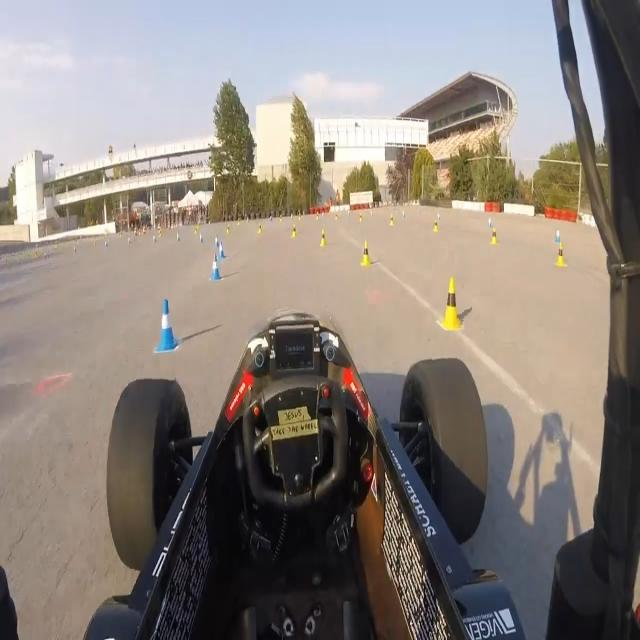blue_cone: (157, 297, 179, 352), (209, 253, 222, 282), (218, 242, 226, 259), (555, 226, 561, 244), (215, 234, 221, 248)
yellow_cone: (440, 276, 462, 331), (555, 242, 567, 269), (362, 241, 372, 266), (491, 225, 498, 247), (321, 228, 327, 248), (433, 217, 439, 234), (389, 213, 395, 228), (292, 223, 297, 239)
